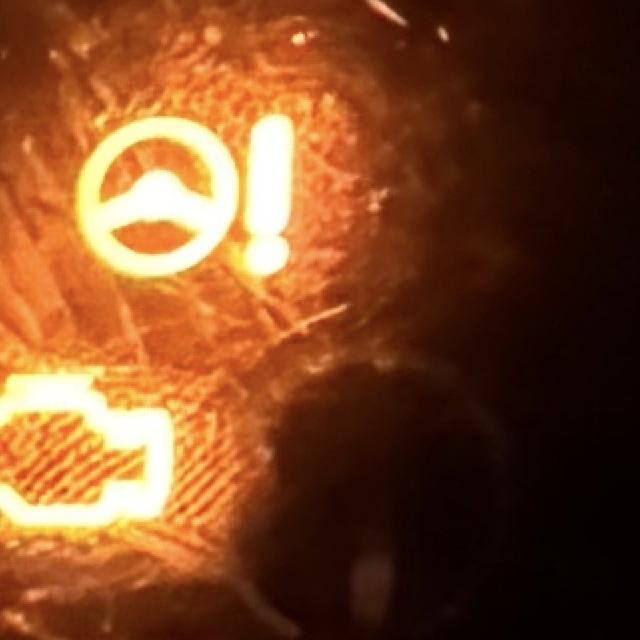Engine Issue: (1, 372, 176, 530)
Steering Wheel Locked: (74, 114, 297, 281)
